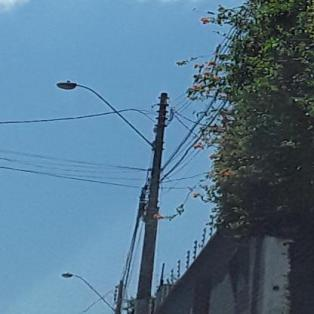Poste: (98, 93, 178, 314)
